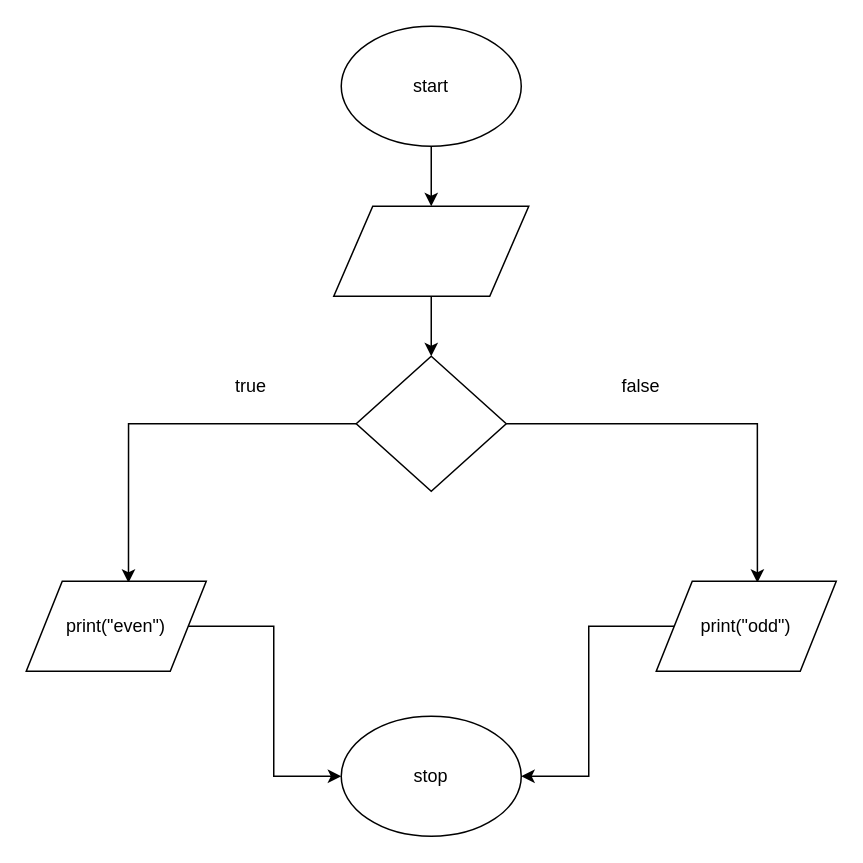
Image size: 863x863. Some labels were removed from this diagram. The shapes that lost their labels are listed below. From the top down, each one's centre as x and y in pixels, then its label:
At (x=430, y=250): "accept the number".
At (x=430, y=423): "if number%2=0".
